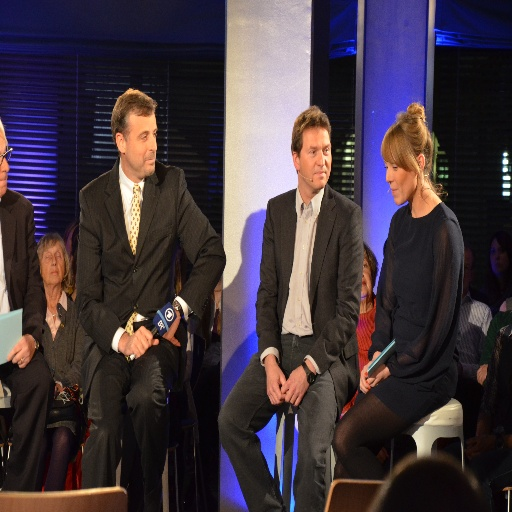hand: (280, 363, 308, 410), (5, 332, 36, 372), (123, 325, 159, 359), (264, 362, 286, 409), (160, 307, 180, 349), (363, 361, 390, 389), (357, 356, 375, 396), (476, 365, 488, 387), (53, 383, 62, 397)
